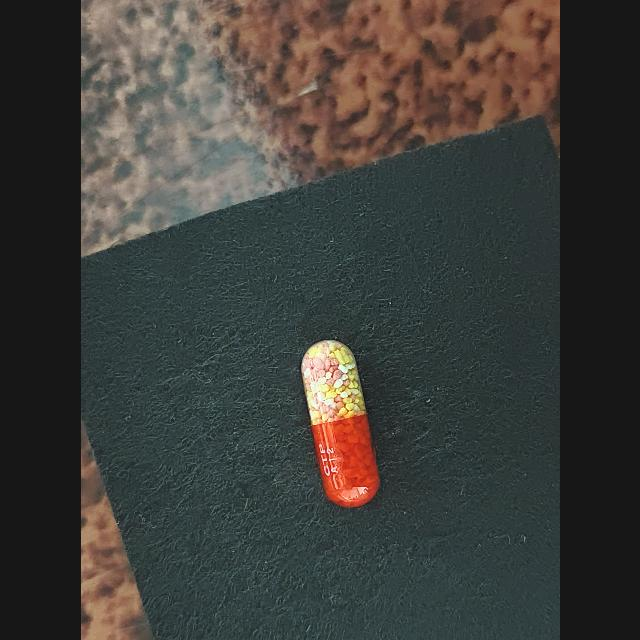Intact Capsule: (301, 340, 379, 507)
